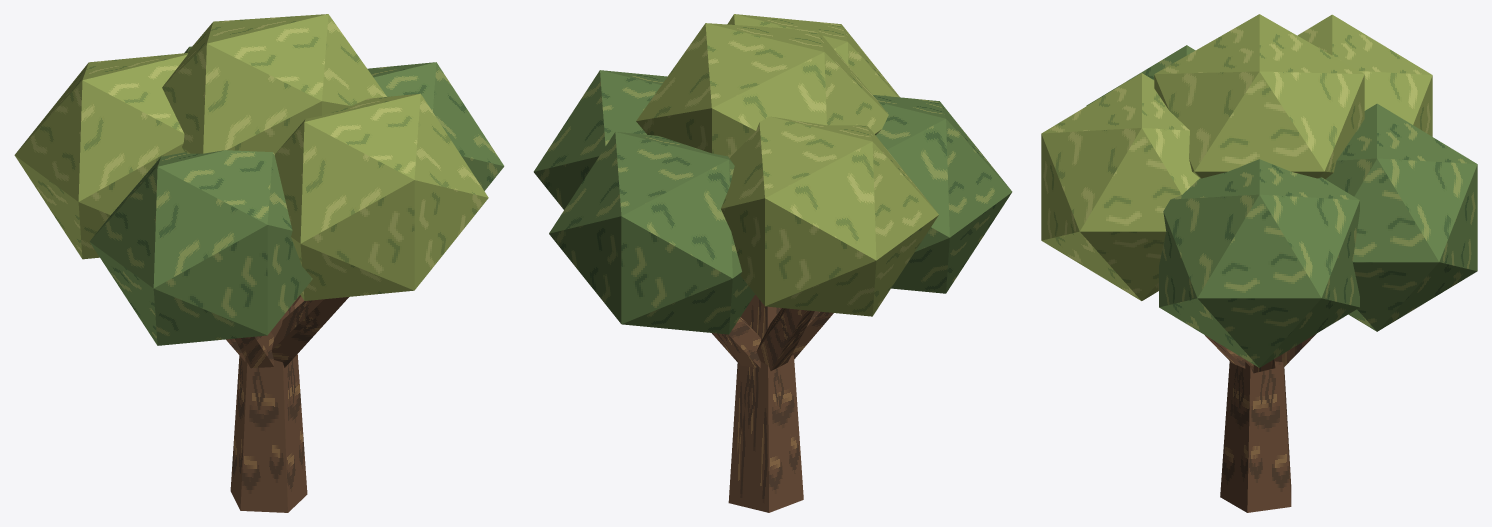
The model's file is arvore-carvalho-v02.gltf.
The picture shows the model from 3 angles, left to right: view 1: azimuth 30°, elevation 25°; view 2: azimuth 150°, elevation 25°; view 3: azimuth 270°, elevation 25°; orthographic projection. The views are drawn at different scales.
Visible parts, largest first — view 1: tronco-galhos-copa; view 2: tronco-galhos-copa; view 3: tronco-galhos-copa.
Part boxes in pixels (x1,y1,x2,y2): tronco-galhos-copa: (14,14,504,512); tronco-galhos-copa: (533,14,1012,512); tronco-galhos-copa: (1041,14,1477,512).
Size of the model in its own units: 3.86 by 4.46 by 3.88.
Materials: 1 (1 with a texture image).
